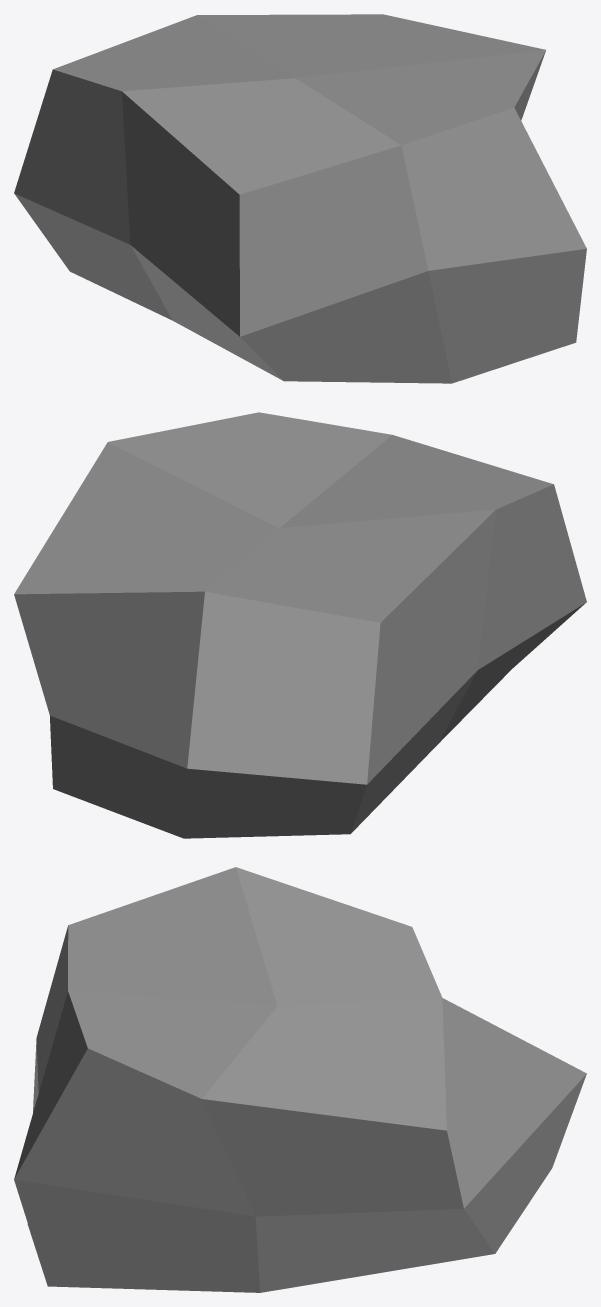
File: block.fbx
The picture shows the model from 3 angles, top to bottom: view 1: azimuth 30°, elevation 25°; view 2: azimuth 150°, elevation 25°; view 3: azimuth 270°, elevation 25°; orthographic projection. The views are drawn at different scales.
Parts seen in each view (by area): view 1: Cube.003; view 2: Cube.003; view 3: Cube.003.
Part boxes in pixels (x1=…): Cube.003: x1=14, y1=14, x2=586, y2=383; Cube.003: x1=14, y1=412, x2=586, y2=838; Cube.003: x1=14, y1=867, x2=586, y2=1292.
Size of the model in its own units: 139 by 86.86 by 177.
